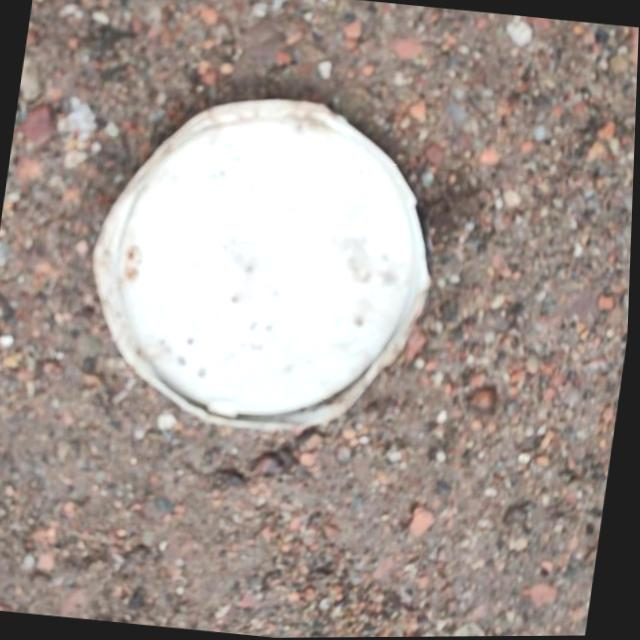Paper: (62, 67, 464, 455)
